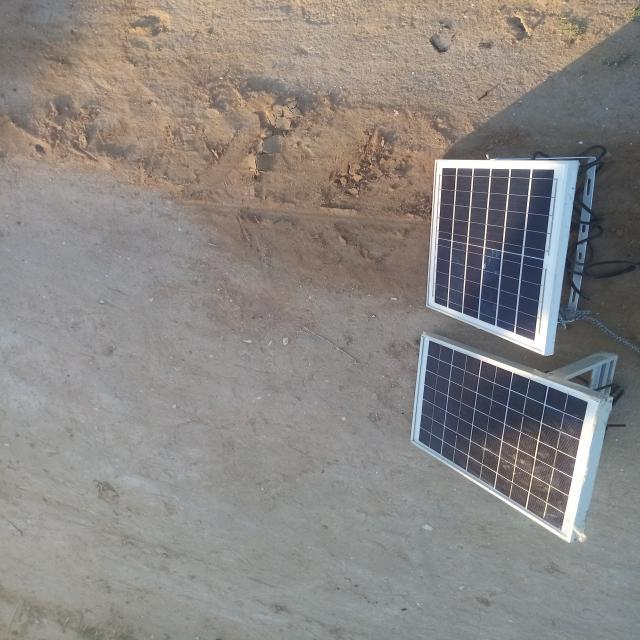no faulty: (410, 335, 602, 541), (427, 162, 570, 354)
